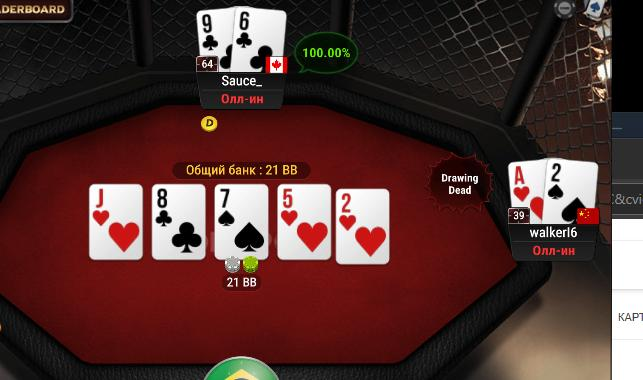2h: (336, 189, 388, 264)
2s: (545, 160, 596, 224)
5h: (280, 184, 331, 260)
6c: (234, 6, 286, 74)
7s: (216, 184, 268, 259)
8c: (152, 184, 205, 262)
9c: (194, 8, 232, 72)
Ah: (510, 161, 544, 224)
Jh: (90, 186, 144, 259)
